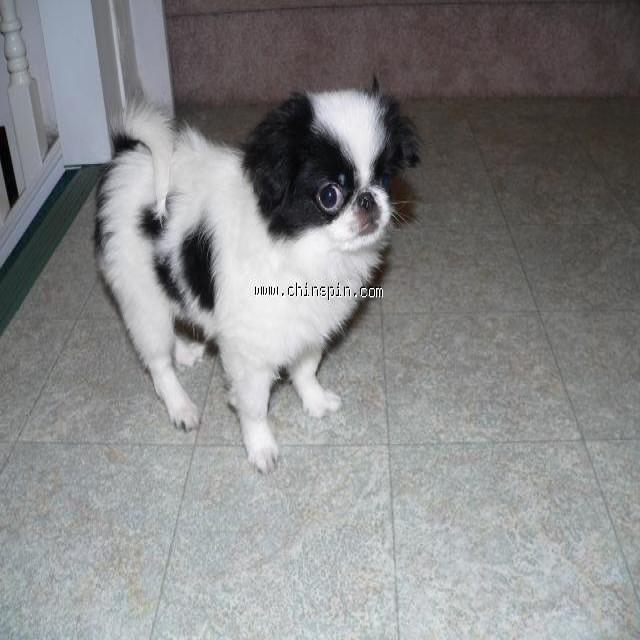husky: (92, 74, 423, 474)
